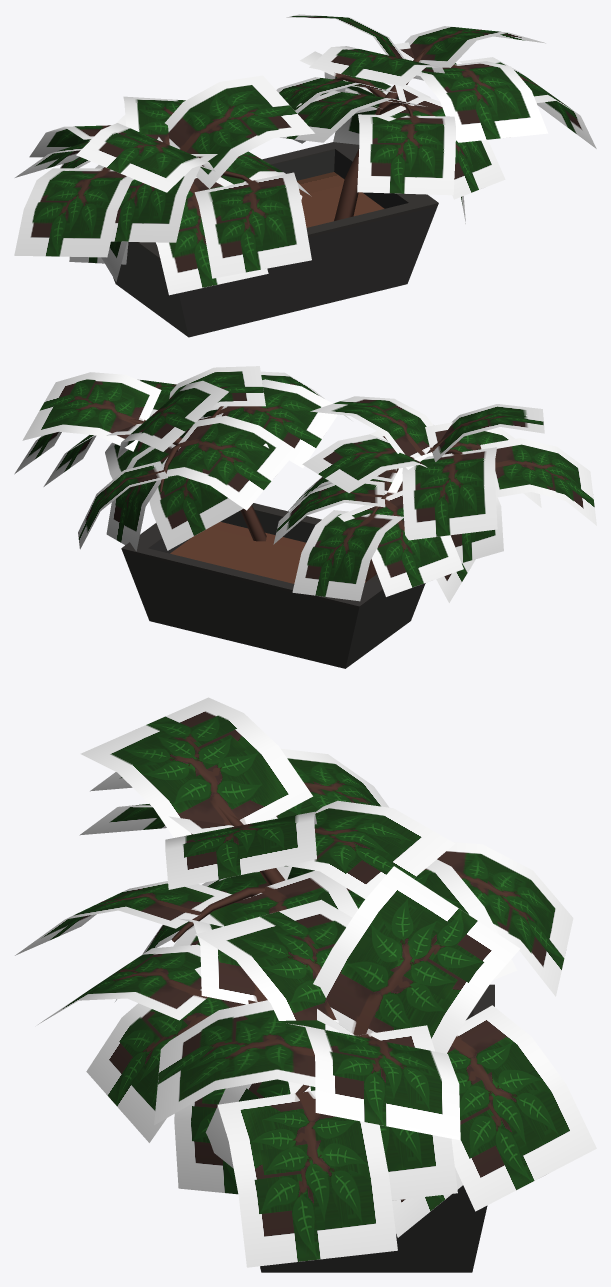
File: Bush.fbx
3 views of the same model, one above another, from view 1: azimuth 30°, elevation 25°; view 2: azimuth 150°, elevation 25°; view 3: azimuth 270°, elevation 25° (orthographic). The views are drawn at different scales.
Visible parts, largest first — view 1: Leaves, Bush, pPlane11; view 2: Leaves, Bush; view 3: Leaves, Bush, pPlane11.
Part boxes in pixels (bbox=[...]): Leaves: bbox=[14, 14, 596, 281]; Bush: bbox=[103, 50, 456, 337]; pPlane11: bbox=[156, 177, 268, 295]; Leaves: bbox=[14, 366, 596, 602]; Bush: bbox=[121, 406, 462, 668]; Leaves: bbox=[15, 697, 596, 1267]; Bush: bbox=[171, 806, 494, 1272]; pPlane11: bbox=[115, 866, 291, 1001].
Bounding box in the file's own units: 17.25 × 6.97 × 10.15.
